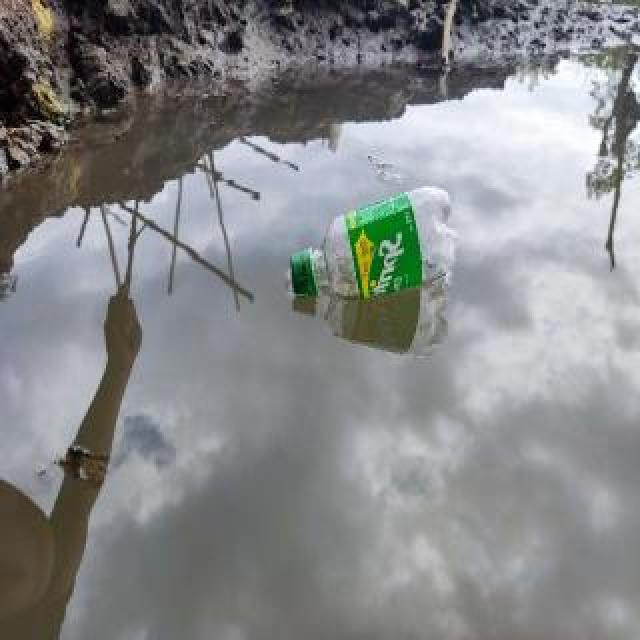Bottle: (286, 182, 464, 314)
